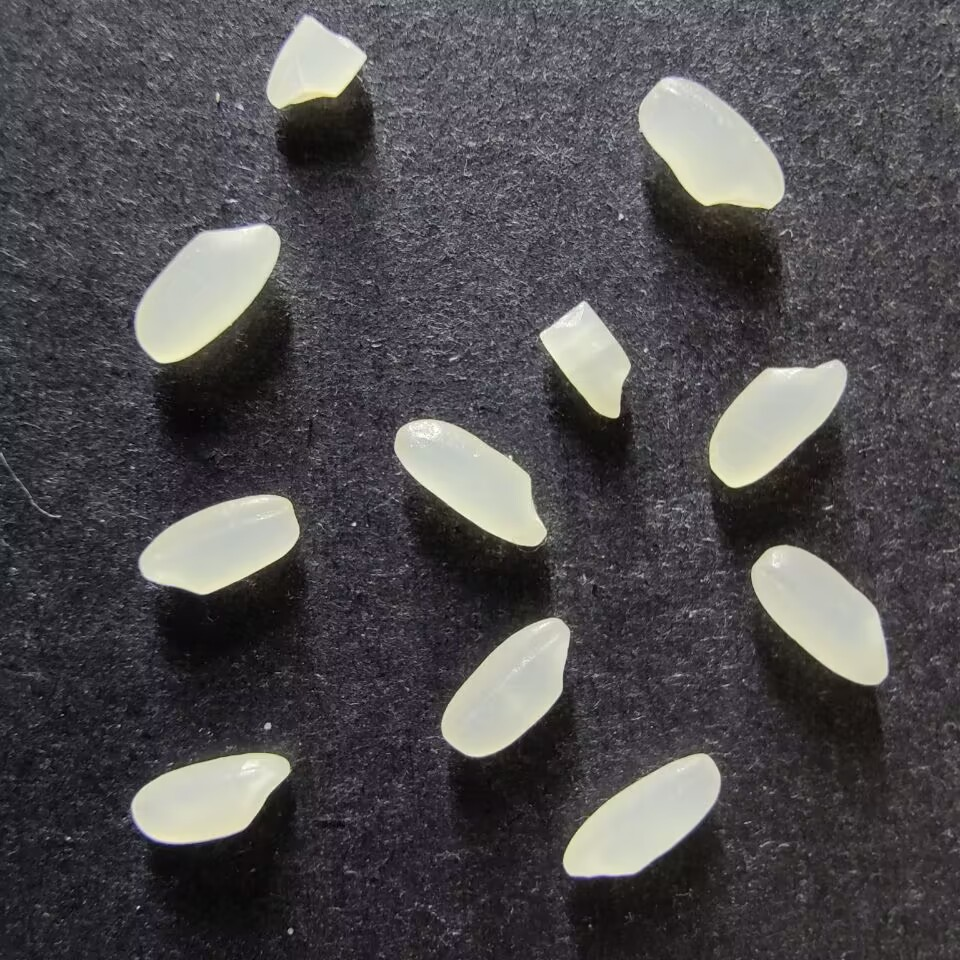broken: (538, 299, 632, 419), (265, 13, 368, 109)
rice: (133, 223, 280, 364), (562, 752, 722, 880), (748, 543, 889, 686), (392, 419, 548, 547), (637, 75, 786, 209), (440, 615, 570, 758), (707, 358, 848, 488), (137, 492, 300, 596), (130, 751, 291, 845)
